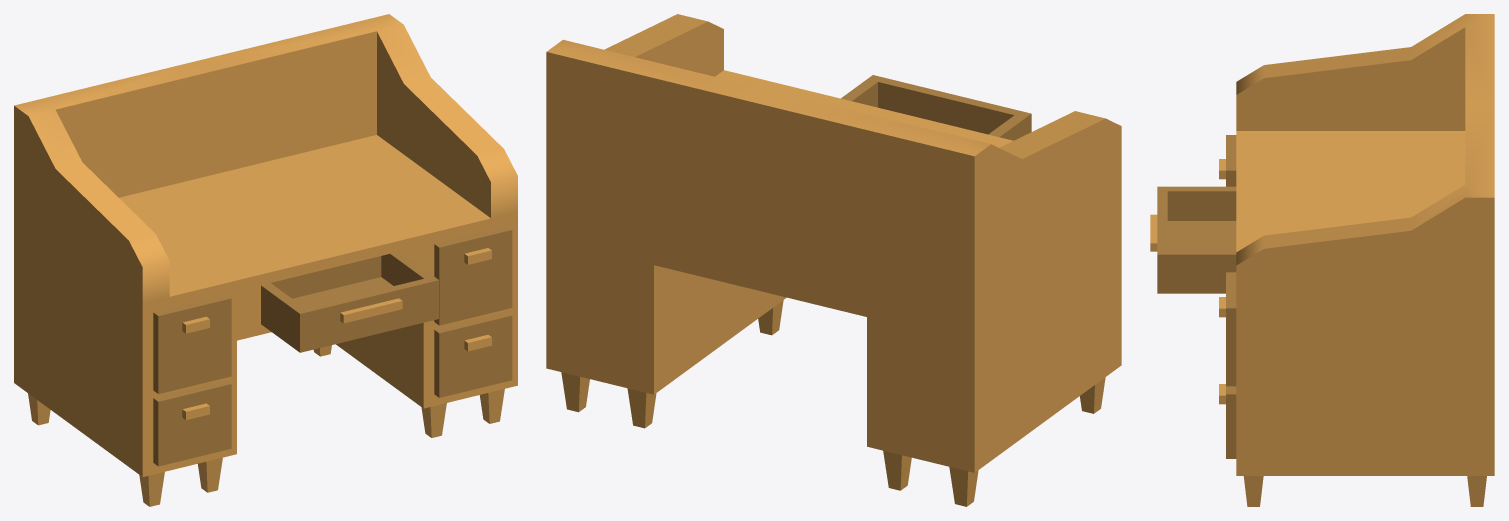
The model's file is desk_opened.glb.
3 renders of one model, left to right at view 1: azimuth 30°, elevation 25°; view 2: azimuth 150°, elevation 25°; view 3: azimuth 270°, elevation 25°, orthographic. The views are drawn at different scales.
Parts seen in each view (by area): view 1: desk_Opened; view 2: desk_Opened; view 3: desk_Opened.
Boxes of the visible parts, <box> form: desk_Opened: <box>14,14,517,506</box>; desk_Opened: <box>546,14,1121,506</box>; desk_Opened: <box>1150,14,1494,506</box>.
Bounding box in the file's own units: 1.76 × 1.41 × 1.39.
